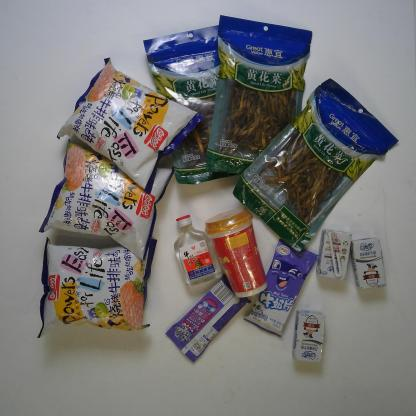Alcohol: (172, 213, 226, 290)
Candy: (164, 272, 254, 364), (244, 236, 318, 338)
Dried Food: (233, 76, 400, 254), (143, 19, 270, 186), (204, 13, 314, 177)
Instant Drink: (204, 204, 269, 299)
Milk: (350, 237, 388, 290), (316, 229, 353, 282), (291, 308, 326, 364)
Puffed Food: (56, 57, 206, 195), (38, 136, 178, 263), (36, 236, 159, 340)
